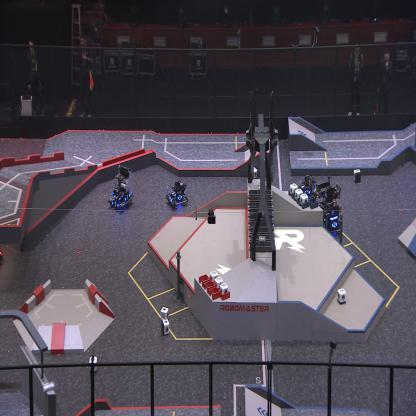car: (314, 186, 342, 236), (108, 164, 134, 210), (165, 177, 188, 208), (298, 173, 317, 199)
